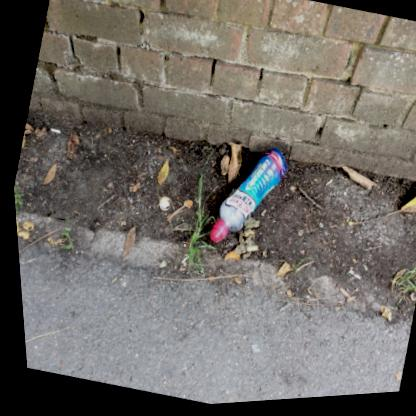Metal: (154, 197, 167, 211)
Plastic: (205, 150, 283, 244)
Waste: (47, 127, 57, 133)
